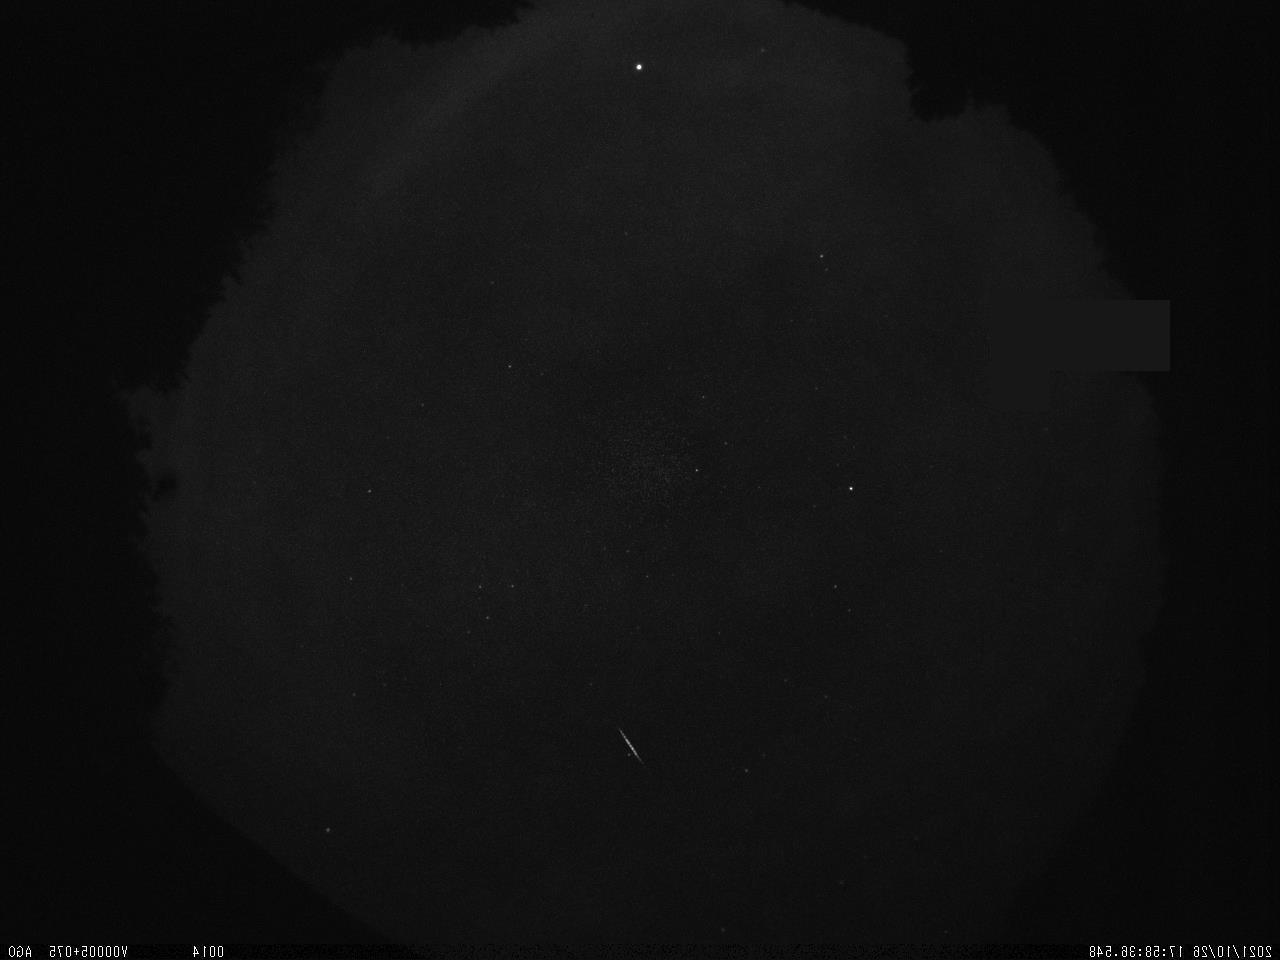meteor: (614, 719, 654, 768)
